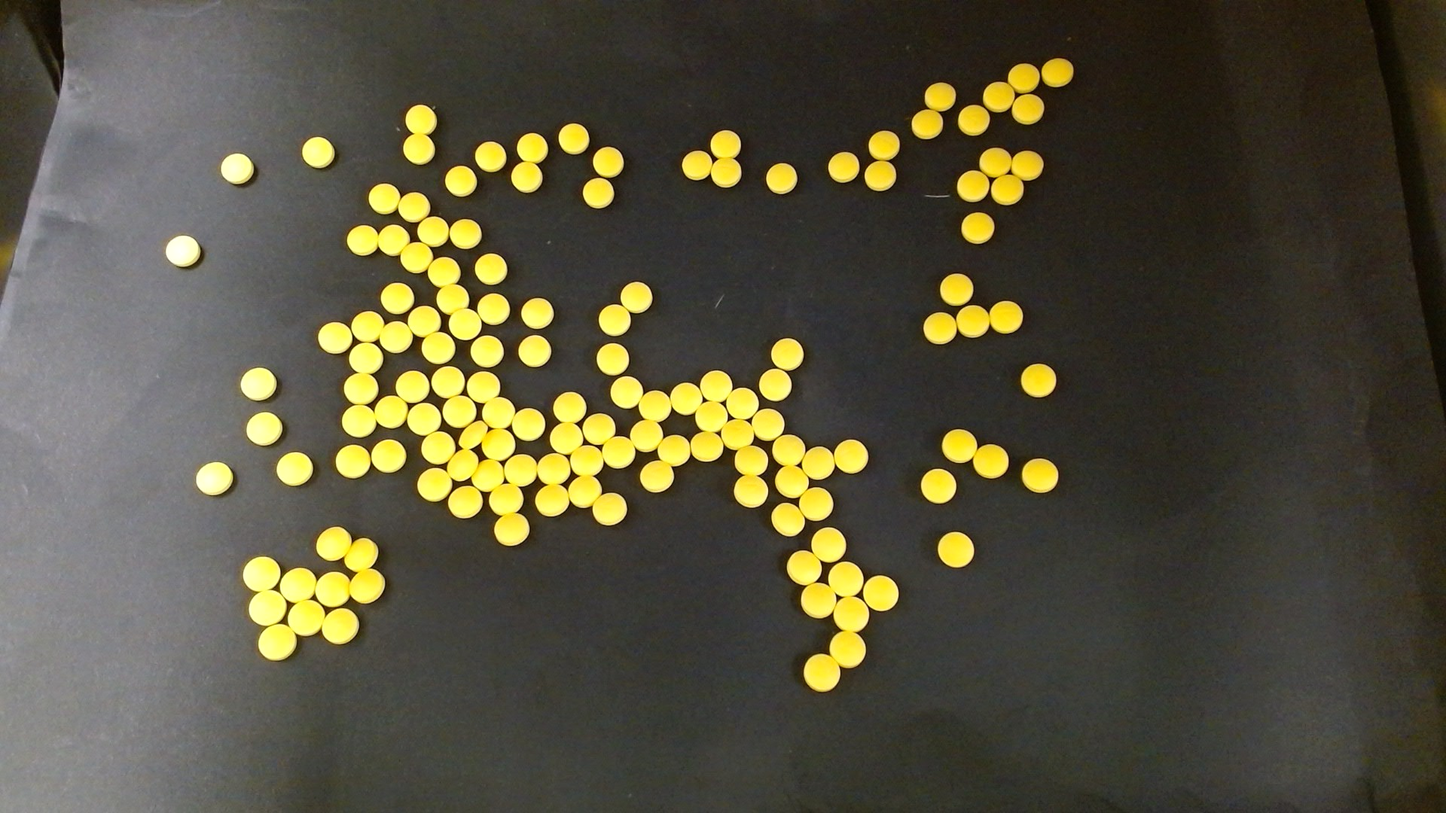Circle: (257, 623, 297, 660), (803, 654, 840, 691), (242, 556, 279, 592), (288, 599, 325, 635), (314, 525, 351, 561), (321, 609, 358, 645), (195, 461, 233, 496), (862, 575, 898, 611), (249, 590, 285, 626), (938, 532, 974, 568), (833, 595, 868, 632), (349, 568, 384, 604), (276, 452, 313, 486), (239, 367, 277, 400), (801, 582, 836, 617), (811, 526, 846, 561), (921, 469, 956, 504), (1022, 458, 1057, 493), (831, 632, 866, 667), (941, 428, 977, 462), (334, 443, 370, 477), (316, 321, 352, 355), (279, 568, 315, 602), (246, 412, 282, 446), (493, 512, 529, 546), (1020, 363, 1056, 397), (348, 340, 383, 374), (974, 443, 1008, 478), (417, 467, 452, 501), (786, 550, 821, 584), (592, 492, 627, 526), (315, 572, 349, 607), (829, 561, 864, 595), (734, 472, 768, 507), (371, 439, 405, 473), (834, 439, 868, 473), (343, 537, 377, 571), (343, 372, 378, 405), (341, 404, 376, 437), (442, 394, 475, 428), (374, 394, 407, 428), (639, 459, 673, 492), (596, 342, 630, 375), (770, 337, 804, 370), (800, 487, 834, 520), (511, 408, 545, 441), (165, 235, 200, 267), (421, 431, 454, 464), (421, 331, 454, 364), (408, 401, 441, 434), (569, 474, 602, 507), (395, 370, 429, 402), (520, 297, 554, 329), (489, 483, 523, 515), (517, 335, 551, 367), (569, 445, 603, 477), (471, 458, 504, 490), (481, 428, 514, 460), (447, 486, 480, 518), (990, 300, 1023, 332), (470, 334, 502, 367), (940, 273, 973, 305), (535, 483, 568, 515), (553, 391, 586, 423), (474, 253, 507, 285), (408, 304, 441, 336), (758, 368, 791, 400), (923, 312, 956, 344), (597, 303, 630, 335), (301, 136, 334, 168), (220, 153, 254, 184), (537, 453, 569, 485), (380, 320, 412, 352), (505, 454, 537, 486), (776, 464, 808, 496), (432, 365, 464, 397), (629, 419, 661, 451), (772, 502, 804, 534), (351, 310, 383, 342), (481, 397, 514, 428), (477, 293, 510, 324), (380, 282, 413, 313), (956, 305, 989, 336), (402, 133, 435, 164), (961, 212, 994, 243), (602, 436, 634, 467), (583, 413, 615, 444), (658, 434, 690, 465), (550, 421, 582, 452), (436, 283, 468, 314), (399, 241, 431, 272), (620, 281, 652, 312), (700, 369, 732, 400), (557, 123, 589, 154), (801, 446, 833, 477), (610, 376, 642, 407), (735, 446, 768, 476), (721, 418, 752, 449), (695, 400, 726, 431), (773, 434, 804, 465), (639, 390, 670, 421), (752, 410, 783, 441), (1012, 93, 1043, 124), (449, 309, 480, 340), (346, 224, 377, 255), (592, 146, 623, 177), (517, 132, 548, 163), (404, 103, 435, 134), (368, 182, 398, 214), (467, 372, 499, 402), (582, 178, 614, 208), (958, 105, 989, 135), (444, 165, 475, 195), (474, 141, 505, 171), (957, 171, 988, 201), (983, 81, 1014, 111), (726, 387, 756, 418), (398, 192, 429, 222), (417, 216, 448, 246), (691, 431, 722, 461), (864, 160, 895, 190), (447, 449, 477, 480), (511, 161, 542, 191), (912, 108, 943, 138), (671, 382, 701, 413), (1042, 57, 1073, 87), (765, 163, 796, 193), (978, 147, 1010, 176), (428, 257, 458, 287), (450, 218, 480, 248), (378, 224, 408, 254), (828, 152, 858, 182), (458, 420, 488, 450), (1008, 63, 1039, 92), (992, 175, 1023, 204), (1012, 150, 1043, 179), (924, 81, 954, 110), (868, 130, 898, 159), (712, 157, 742, 186), (682, 150, 711, 179), (710, 129, 740, 157)
